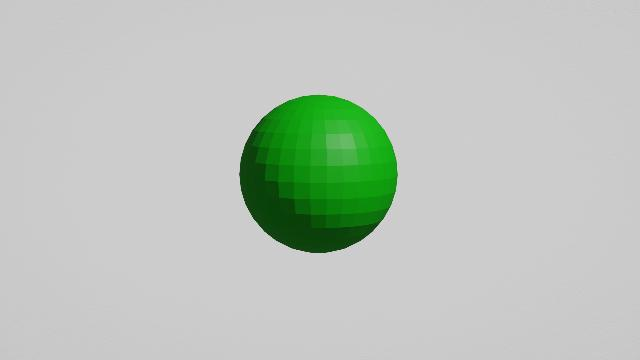Sphere: (226, 88, 414, 260)
